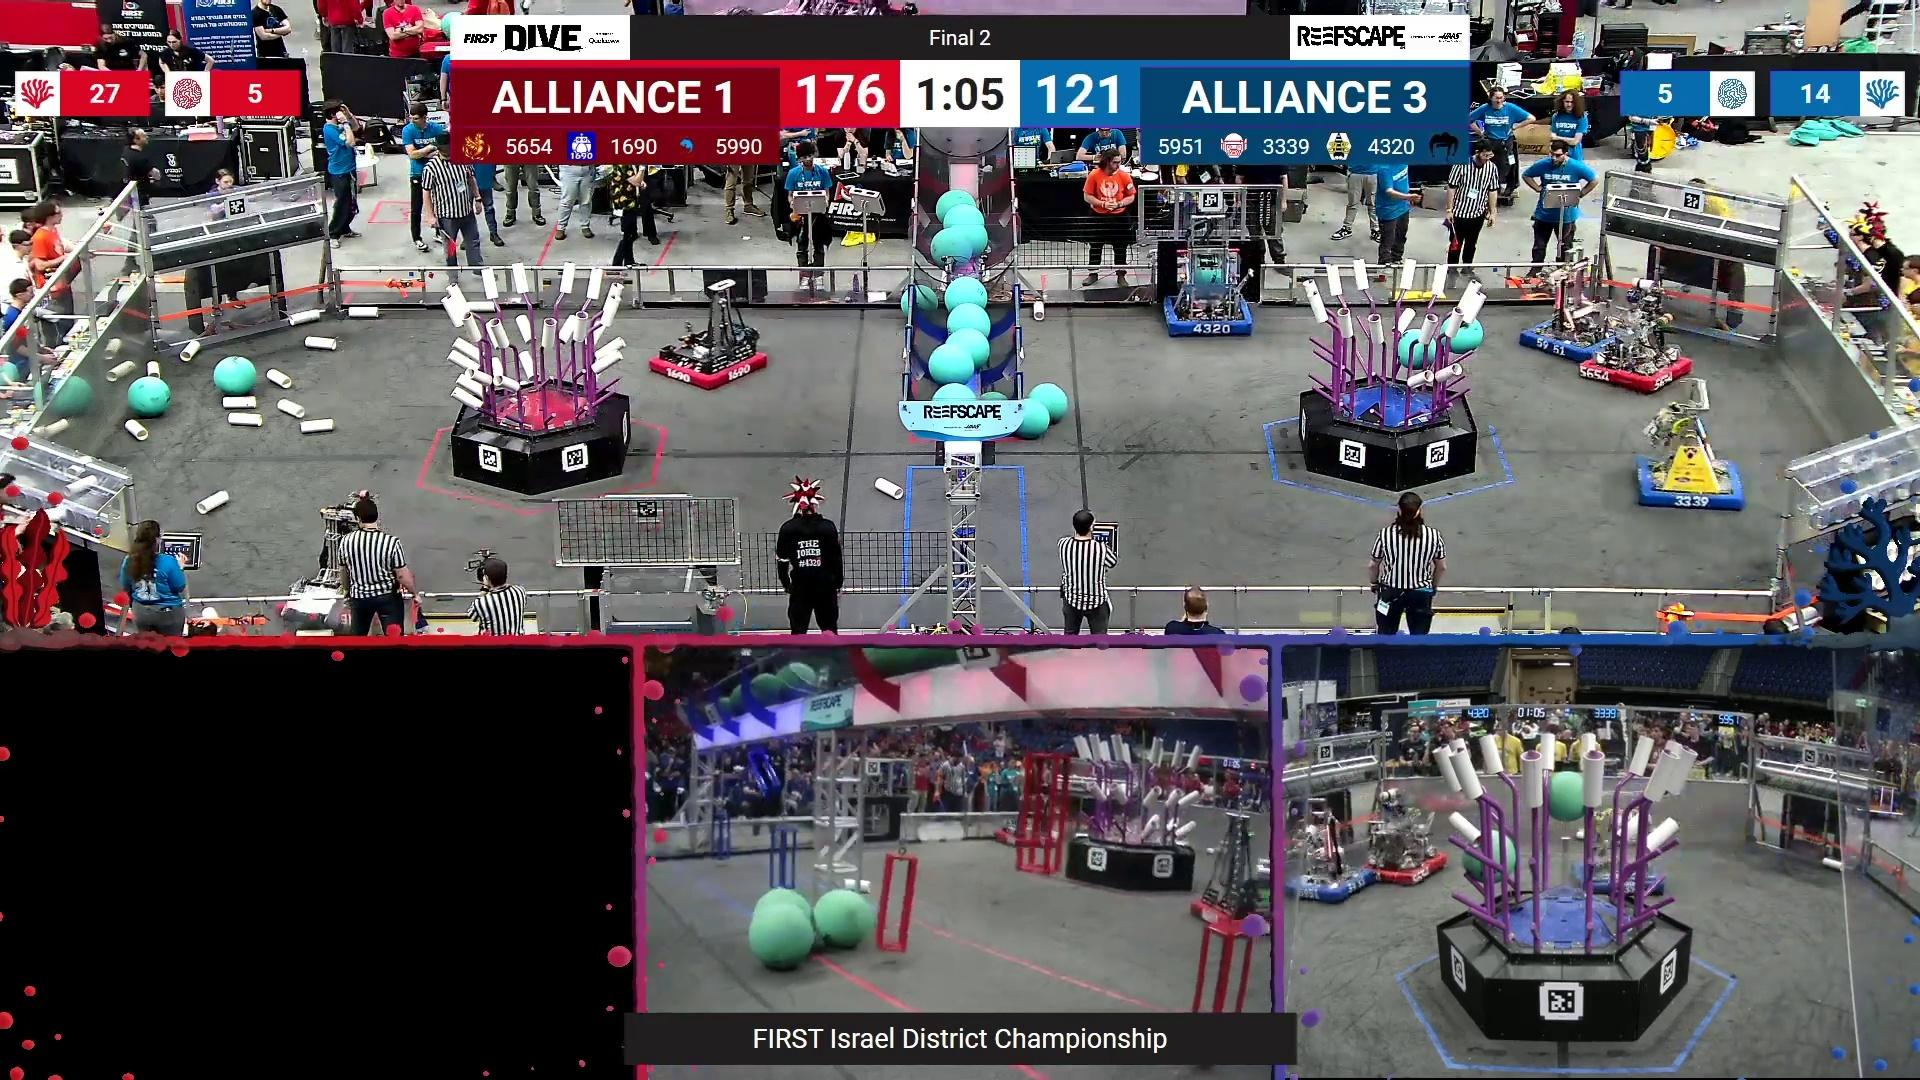robot: (646, 278, 767, 392), (1578, 278, 1693, 393), (1635, 398, 1745, 510), (1519, 249, 1627, 361), (1163, 212, 1255, 339), (1191, 806, 1271, 936), (1286, 796, 1371, 907), (1572, 807, 1665, 898), (1360, 790, 1447, 887)
